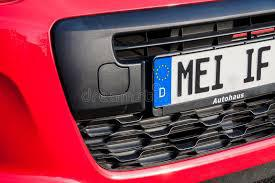E: (195, 57, 211, 93)
F: (255, 45, 271, 81)
I: (211, 55, 226, 91), (242, 48, 255, 84)
M: (176, 59, 193, 97)
